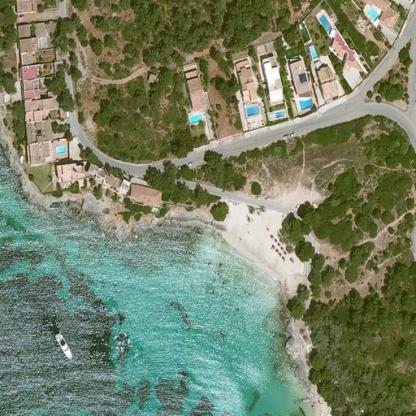ship: (49, 322, 77, 366)
